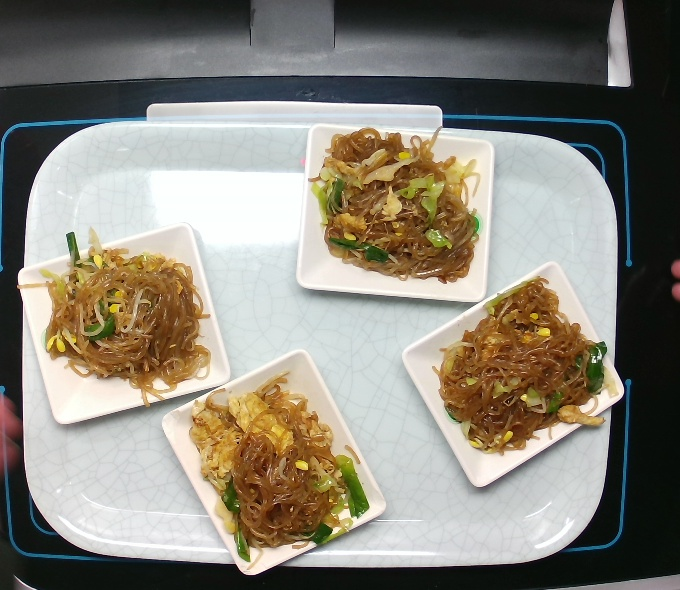wcq-FenSiChaoDan: (174, 364, 374, 567), (13, 223, 216, 411), (426, 271, 624, 454), (306, 119, 485, 289)
